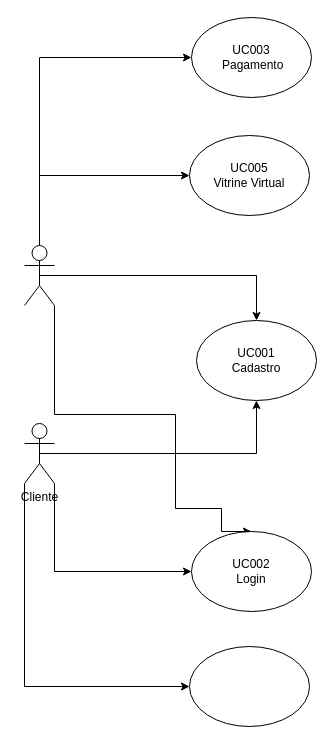
Some shapes in this 334 by 744 pixel diagram are drawn without their labels. The shapes that lost their labels are listed below. From the top down, each one's centre as x and y in pixels, then its label:
At (x=39, y=275): "Loja".
At (x=249, y=686): "UC004 Comparação de Tamanho".
